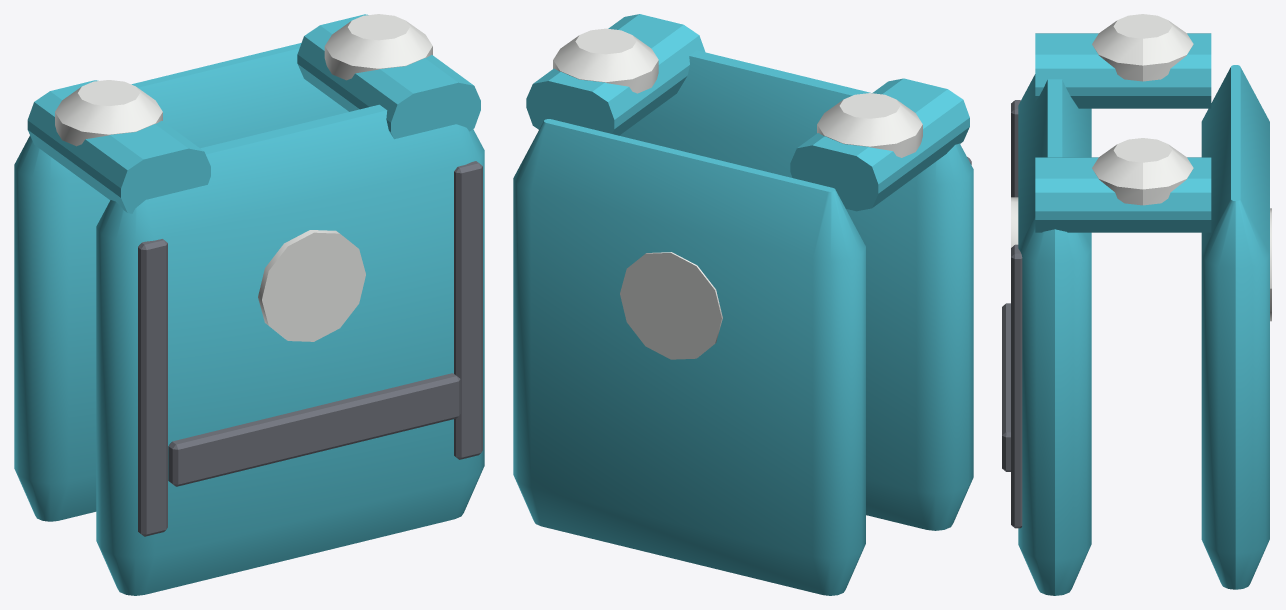
The model's file is laser-tag-arena-and-activity-centre-laser-tag-vest-c4f293a6__34488.glb.
3 renders of one model, left to right at view 1: azimuth 30°, elevation 25°; view 2: azimuth 150°, elevation 25°; view 3: azimuth 270°, elevation 25°, orthographic. The views are drawn at different scales.
Parts seen in each view (by area): view 1: laser-tag-vest; view 2: laser-tag-vest; view 3: laser-tag-vest.
Boxes of the visible parts, left/top/right/bottom form: laser-tag-vest: left=14, top=14, right=484, bottom=595; laser-tag-vest: left=513, top=14, right=973, bottom=595; laser-tag-vest: left=1002, top=14, right=1271, bottom=595.
Bounding box in the file's own units: 0.42 × 0.4844 × 0.276.
